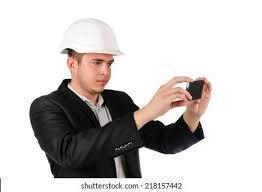helmet: (56, 17, 125, 55)
